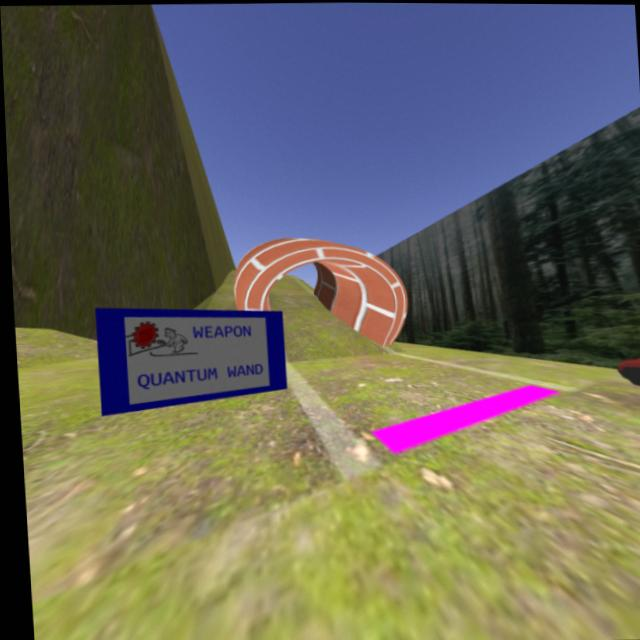clueboard: (91, 301, 290, 418)
